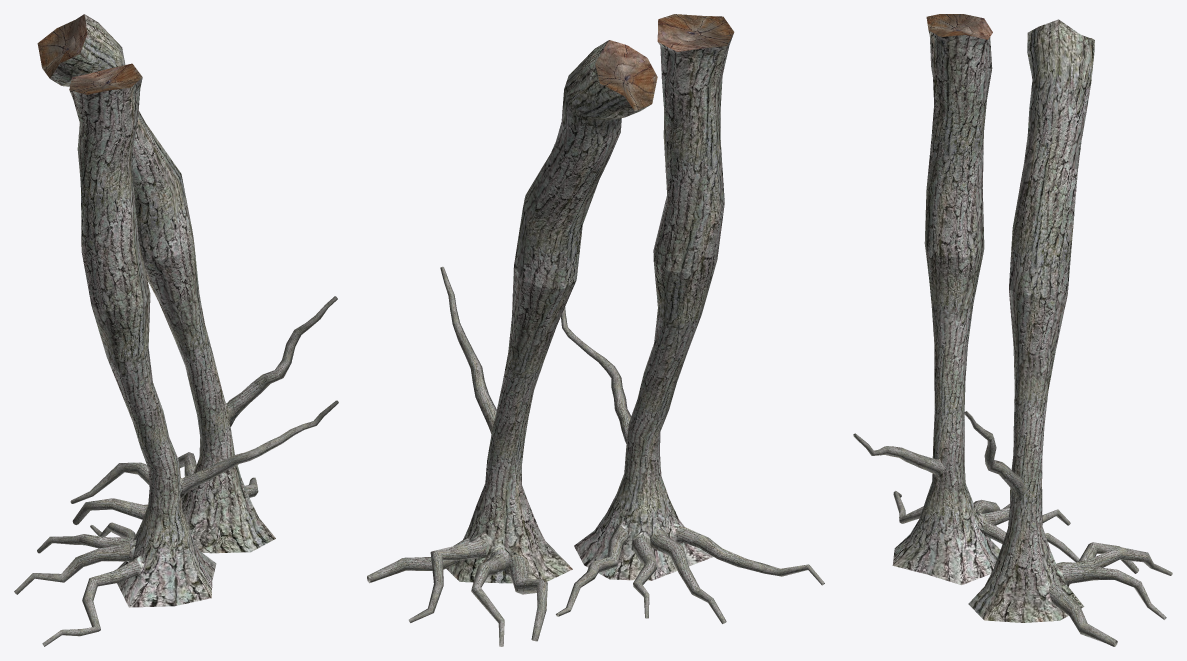
3 renders of one model, left to right at view 1: azimuth 30°, elevation 25°; view 2: azimuth 150°, elevation 25°; view 3: azimuth 270°, elevation 25°, orthographic. The views are drawn at different scales.
Parts seen in each view (by area): view 1: Foot_Tree; view 2: Foot_Tree; view 3: Foot_Tree.
Boxes of the visible parts, x1,y1,x2,y2 form: Foot_Tree: (14, 14, 338, 646); Foot_Tree: (367, 14, 824, 646); Foot_Tree: (853, 14, 1172, 646).
Bounding box in the file's own units: 0.00629 × 0.01 × 0.00537.
2 materials, 2 textured.
